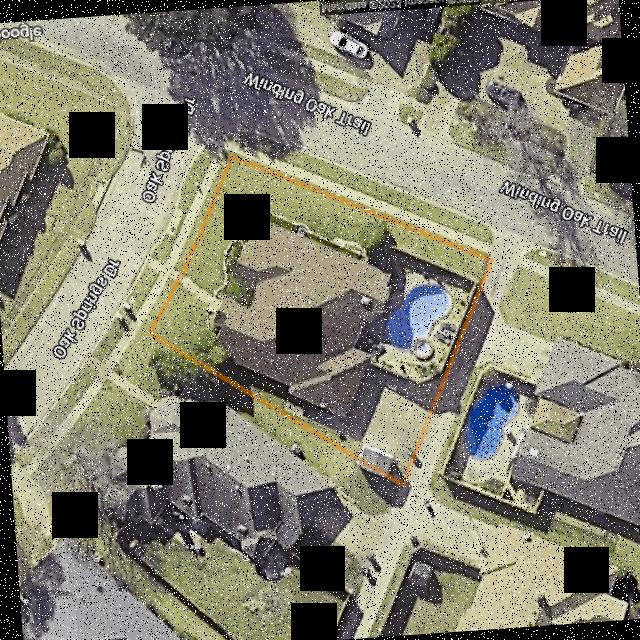Driveway: (180, 273, 221, 310)
Extra Driveway: (146, 257, 180, 279)
Extra Lawn: (285, 151, 491, 241), (172, 156, 227, 270), (176, 150, 211, 213), (137, 277, 174, 329), (126, 266, 157, 312), (150, 234, 175, 262)
Extra Sidewalk: (222, 139, 495, 254), (129, 151, 224, 328)
House: (217, 219, 388, 414)
Other: (353, 263, 469, 382), (361, 445, 401, 479), (164, 207, 182, 234)
